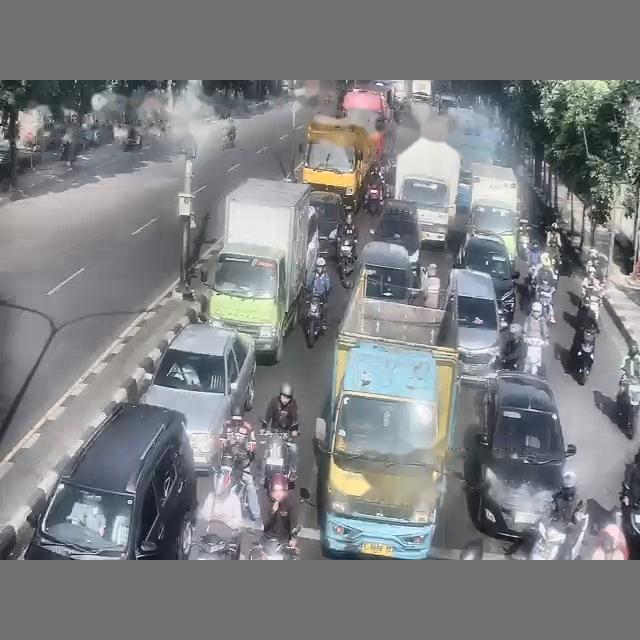Mobil: (25, 403, 197, 559), (468, 371, 576, 539), (143, 323, 255, 473), (445, 269, 501, 380), (454, 233, 519, 327), (370, 200, 421, 288), (310, 191, 345, 254), (305, 207, 319, 280)
Motor: (528, 502, 589, 559), (259, 419, 295, 496), (213, 443, 248, 515), (190, 521, 240, 560), (616, 378, 639, 439), (247, 535, 298, 559), (301, 293, 323, 348), (575, 330, 595, 385), (337, 233, 356, 287), (523, 336, 545, 375), (535, 280, 554, 321), (582, 286, 600, 320), (364, 184, 383, 216), (123, 129, 141, 150), (222, 131, 235, 149)
Truk: (314, 273, 459, 559), (209, 178, 310, 361), (395, 138, 460, 244)
